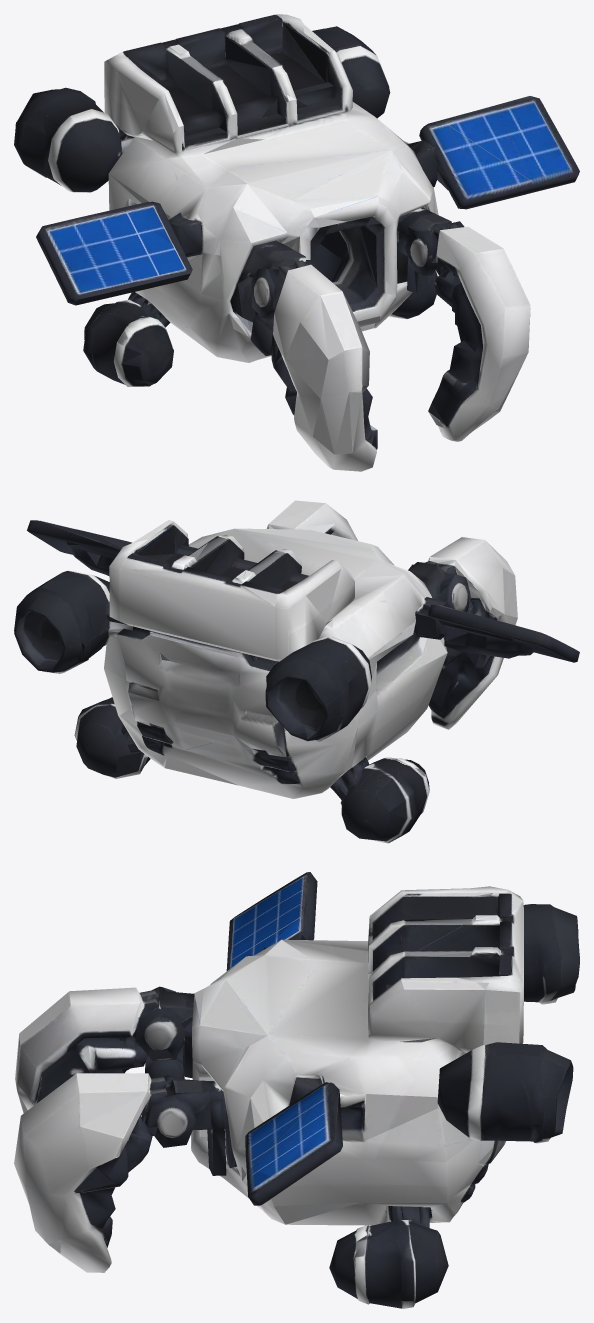
The model's file is collector-lowpoly.glb.
3 views of the same model, one above another, from view 1: azimuth 30°, elevation 25°; view 2: azimuth 150°, elevation 25°; view 3: azimuth 270°, elevation 25° (orthographic). The views are drawn at different scales.
Visible parts, largest first — view 1: output_unwrapped; view 2: output_unwrapped; view 3: output_unwrapped.
Part boxes in pixels (x1,y1,x2,y2): output_unwrapped: (14,14,579,471); output_unwrapped: (14,500,579,843); output_unwrapped: (14,872,579,1308).
Bounding box in the file's own units: 2 × 1.04 × 1.74.
1 material, 1 textured.
